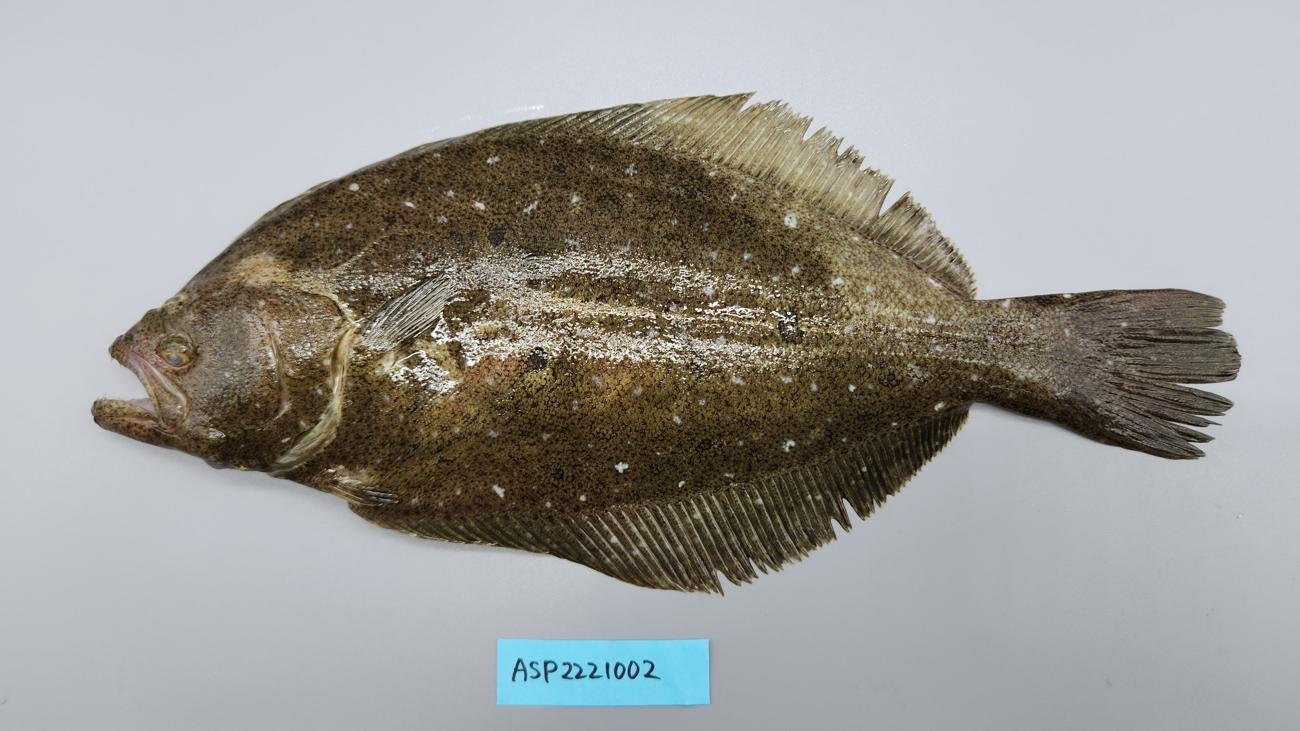SPDYH: (428, 338, 637, 425), (394, 464, 659, 516)
SPOUY: (77, 84, 1250, 604)
